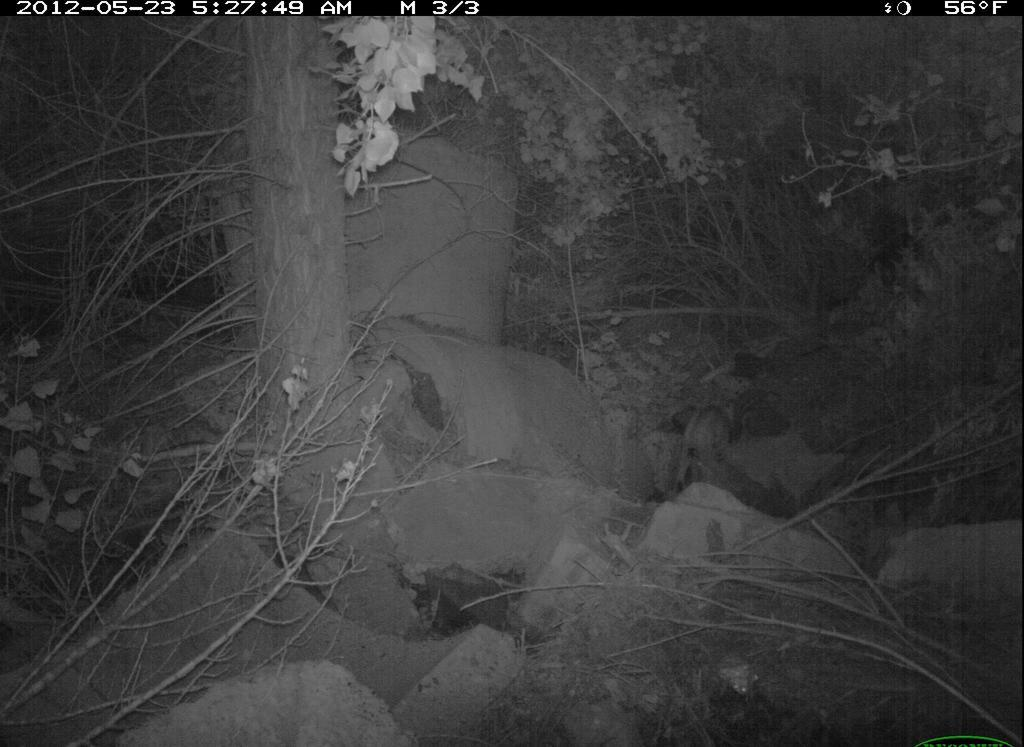bobcat: (666, 373, 766, 509)
